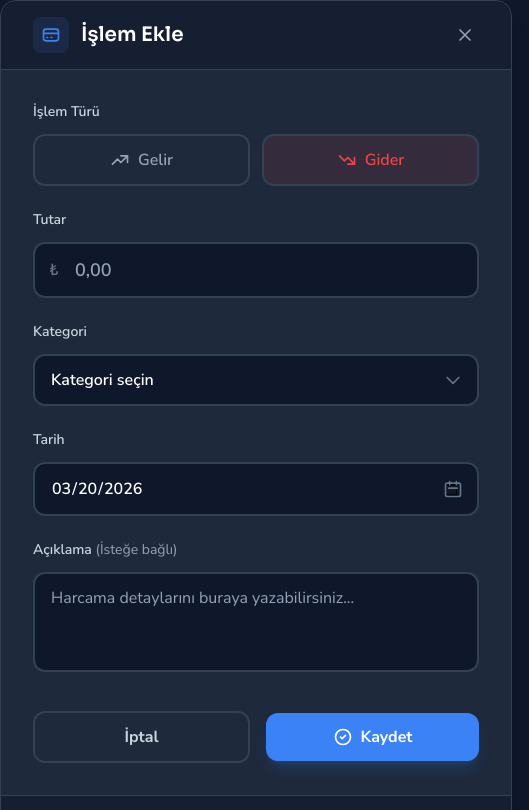
Test: TransactionForm › clears form after successful submission
The image size is (529, 810).
// Enter data
Type "100" into the number field labelled "Tutar".
click(256, 270); type("100")  # box left=33, top=242, right=479, bottom=298
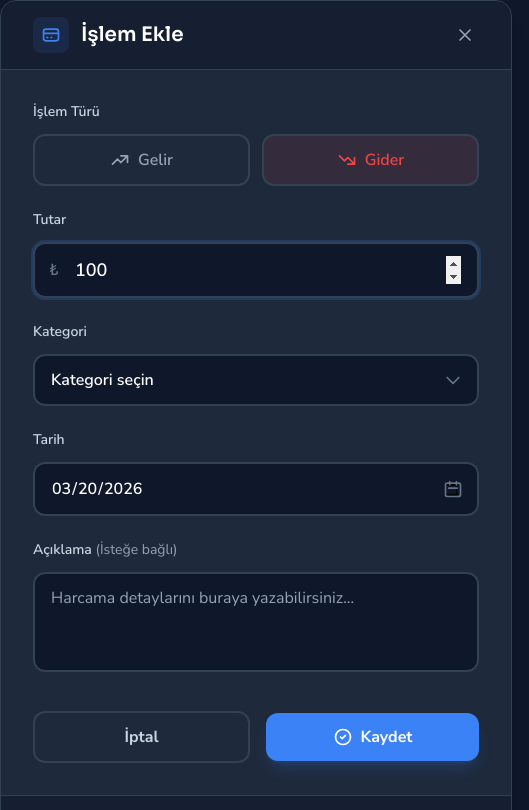
Select "Yemek" in the dropdown labelled "Kategori" at (256, 380), box left=33, top=354, right=479, bottom=406
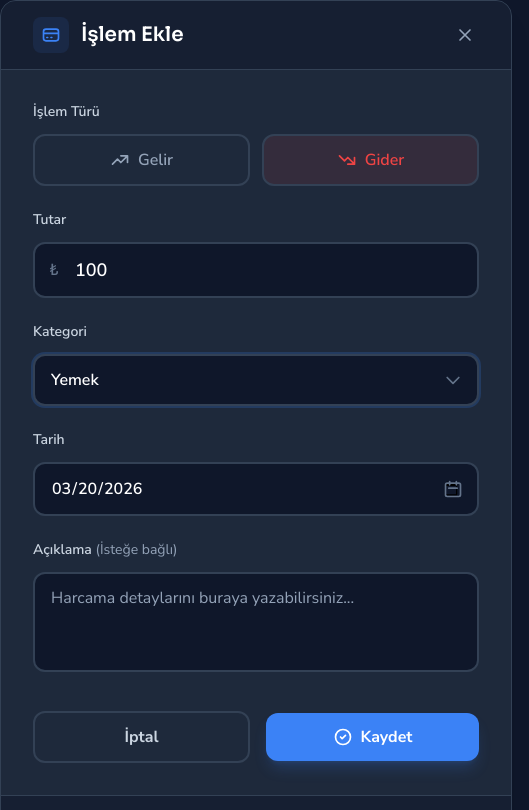
Type "Test description" into the text box labelled "Açıklama (İsteğe bağlı)".
click(256, 622); type("Test description")  # box left=33, top=572, right=479, bottom=672
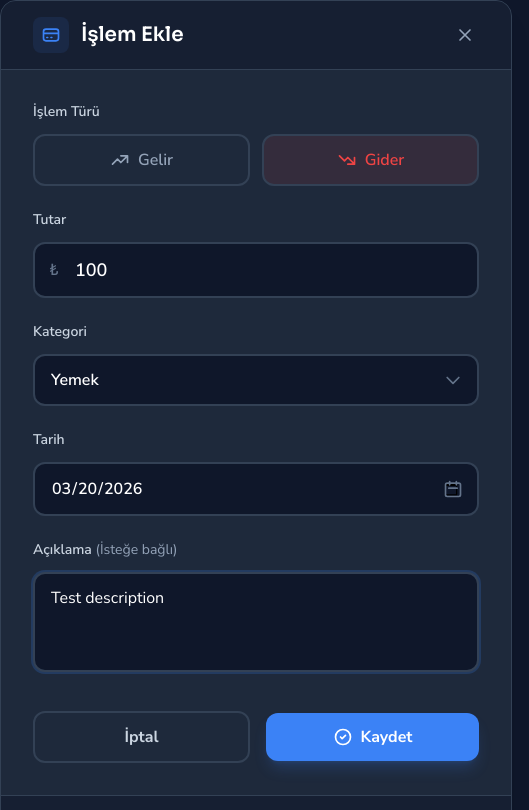
Click the button "Kaydet".
click(372, 737)  # box left=266, top=713, right=479, bottom=761
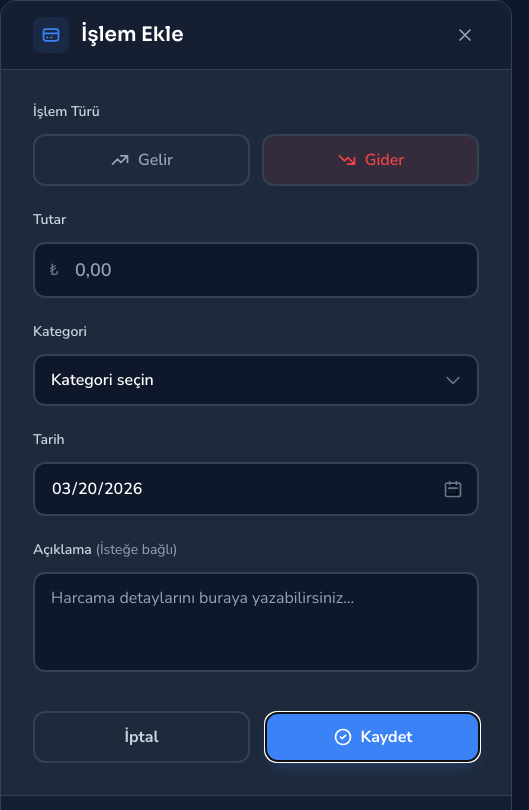
Check: the number field labelled "Tutar" is not empty, box left=33, top=242, right=479, bottom=298
Check: the text box labelled "Açıklama (İsteğe bağlı)" is empty, box left=33, top=572, right=479, bottom=672
